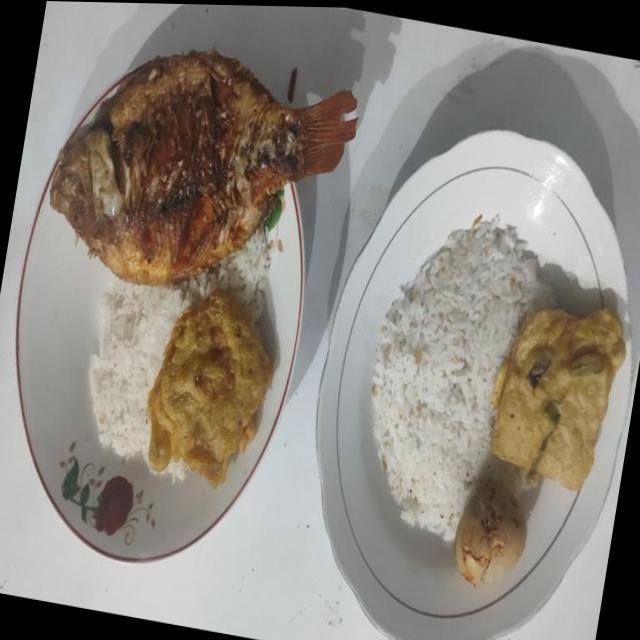ikan_mujair: (50, 50, 357, 285)
nasi_putih: (372, 215, 542, 540), (90, 227, 272, 458)
